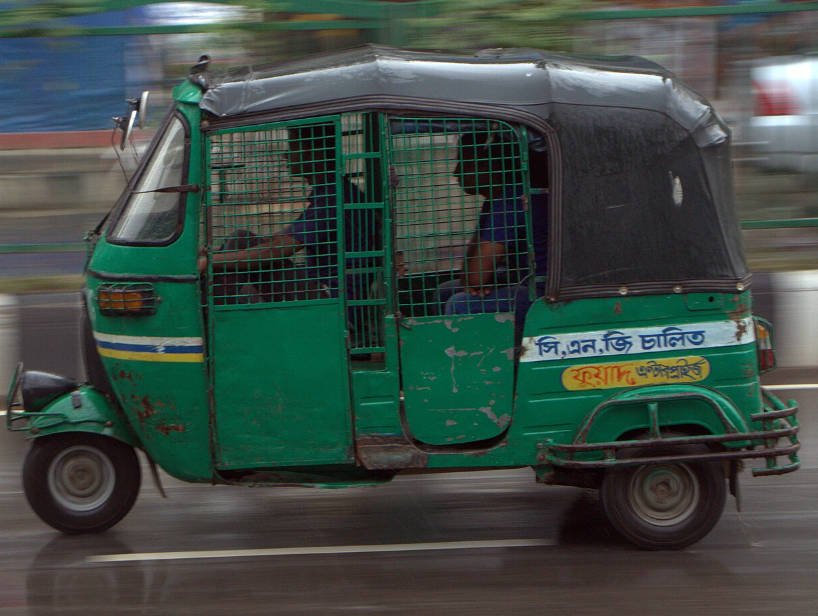cng: (22, 46, 809, 582)
